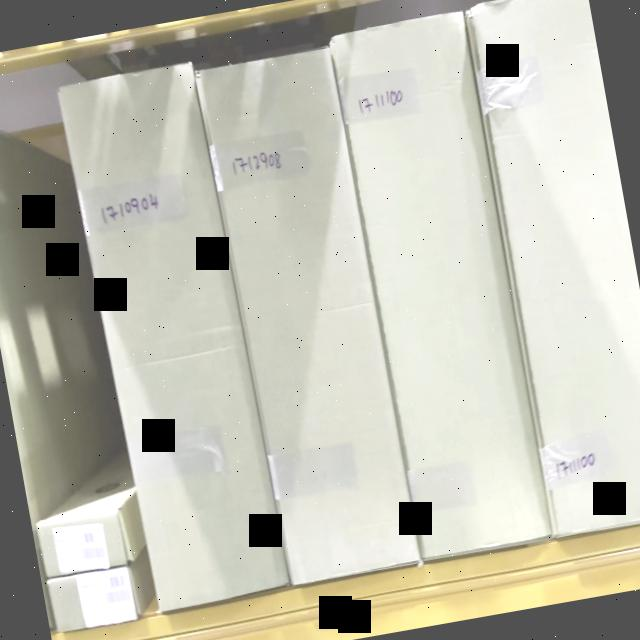box: (65, 68, 286, 608), (332, 17, 552, 556), (200, 53, 418, 580), (44, 564, 140, 634), (34, 514, 126, 577)
